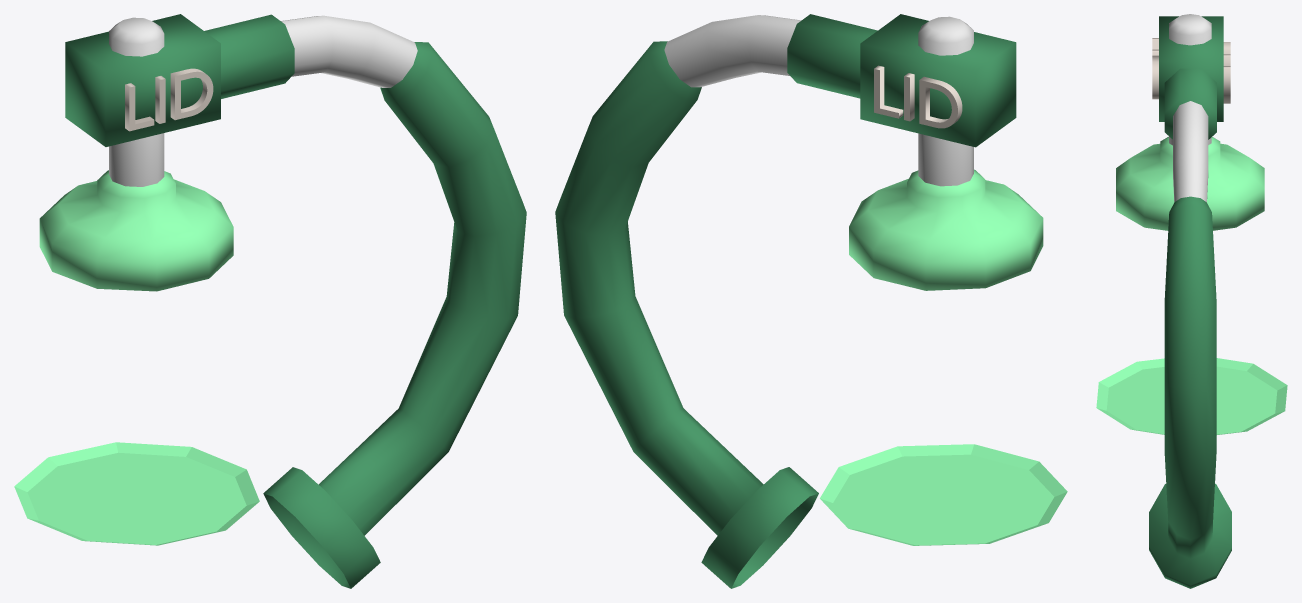
File: Lid_machine.fbx
3 views of the same model, side by side, from view 1: azimuth 30°, elevation 25°; view 2: azimuth 150°, elevation 25°; view 3: azimuth 270°, elevation 25° (orthographic). The views are drawn at different scales.
Visible parts, largest first — view 1: Lid machine 1, Lid machine ızgara, Lid machine 2.001, lid machine transparent, Lid machine 2, Text.005; view 2: Lid machine 1, Lid machine ızgara, Lid machine 2.001, lid machine transparent, Lid machine 2, Text; view 3: Lid machine 1, Lid machine 2.001, Lid machine ızgara, lid machine transparent, Lid machine 2, Text, Text.005.
Boxes of the visible parts, box(x1,y1,x2,y2) form: Lid machine 1: box(65, 14, 526, 588); Lid machine ızgara: box(14, 442, 259, 545); Lid machine 2.001: box(39, 170, 233, 291); lid machine transparent: box(281, 15, 417, 87); Lid machine 2: box(109, 17, 164, 186); Text.005: box(125, 68, 213, 131); Lid machine 1: box(555, 14, 1016, 588); Lid machine ızgara: box(820, 444, 1067, 545); Lid machine 2.001: box(849, 169, 1043, 290); lid machine transparent: box(664, 15, 801, 87); Lid machine 2: box(918, 16, 973, 186); Text: box(874, 65, 962, 128); Lid machine 1: box(1149, 16, 1231, 588); Lid machine 2.001: box(1116, 136, 1264, 230); Lid machine ızgara: box(1096, 358, 1287, 434); lid machine transparent: box(1173, 101, 1208, 202); Lid machine 2: box(1169, 14, 1211, 145); Text: box(1223, 42, 1230, 103); Text.005: box(1152, 38, 1158, 99).
Bounding box in the file's own units: 0.4141 × 0.4907 × 0.174.
